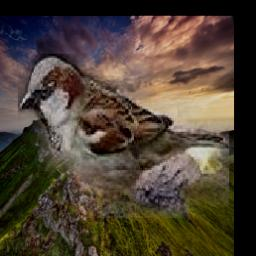Sparrow: (19, 54, 230, 218)
